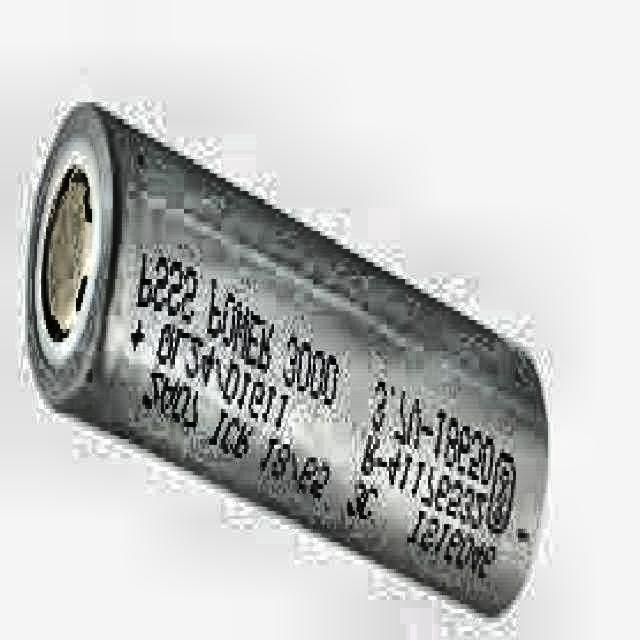battery: (25, 107, 546, 618)
